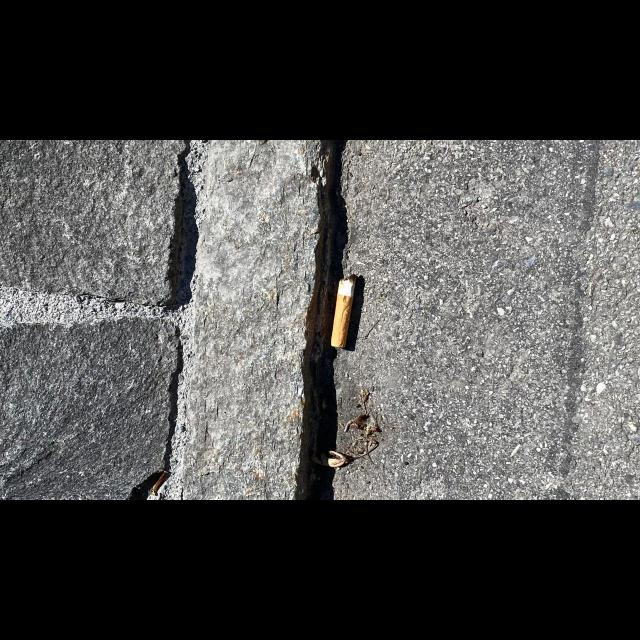cigarette: (330, 273, 357, 348)
